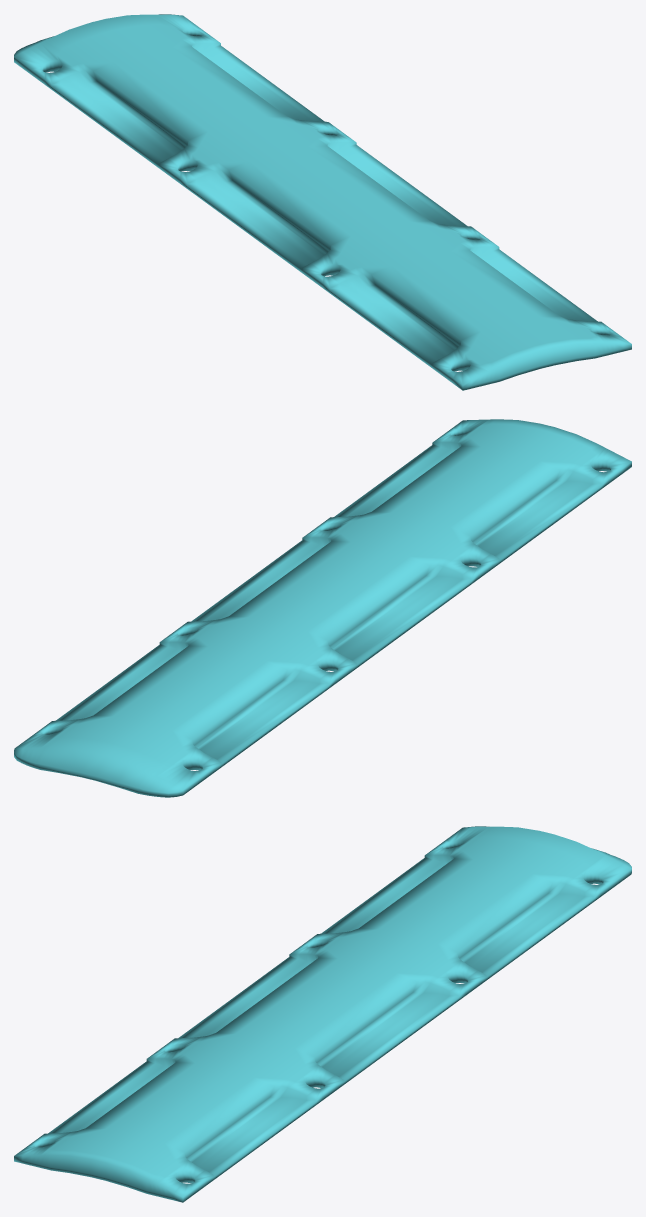
The model's file is Mass_Air_Flow.gltf.
3 views of the same model, one above another, from view 1: azimuth 30°, elevation 25°; view 2: azimuth 150°, elevation 25°; view 3: azimuth 330°, elevation 25° (orthographic).
Visible parts, largest first — view 1: Mass_Air_Flow; view 2: Mass_Air_Flow; view 3: Mass_Air_Flow.
Boxes of the visible parts, bbox=[...] form: Mass_Air_Flow: bbox=[14, 14, 631, 390]; Mass_Air_Flow: bbox=[14, 419, 631, 797]; Mass_Air_Flow: bbox=[14, 826, 631, 1202].
Size of the model in its own units: 0.1678 by 0.0199 by 0.7886.
